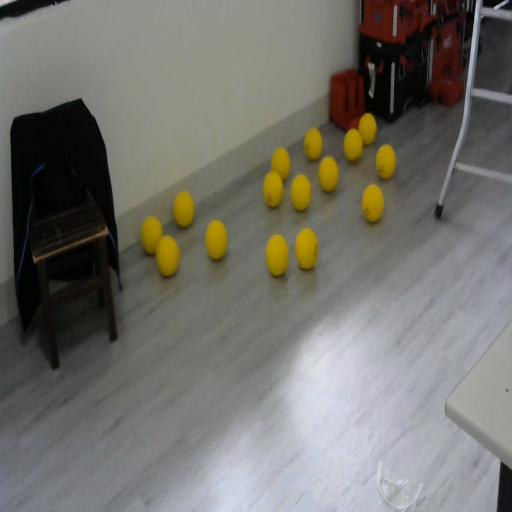FUEL: (155, 234, 180, 278), (265, 232, 289, 276), (204, 218, 228, 260), (294, 228, 318, 270), (172, 189, 196, 229), (361, 184, 384, 223), (140, 216, 162, 256), (290, 173, 311, 211), (270, 146, 292, 181), (343, 126, 363, 163), (263, 171, 283, 208), (375, 144, 396, 179), (318, 156, 338, 192), (358, 112, 377, 146), (304, 127, 322, 161)
